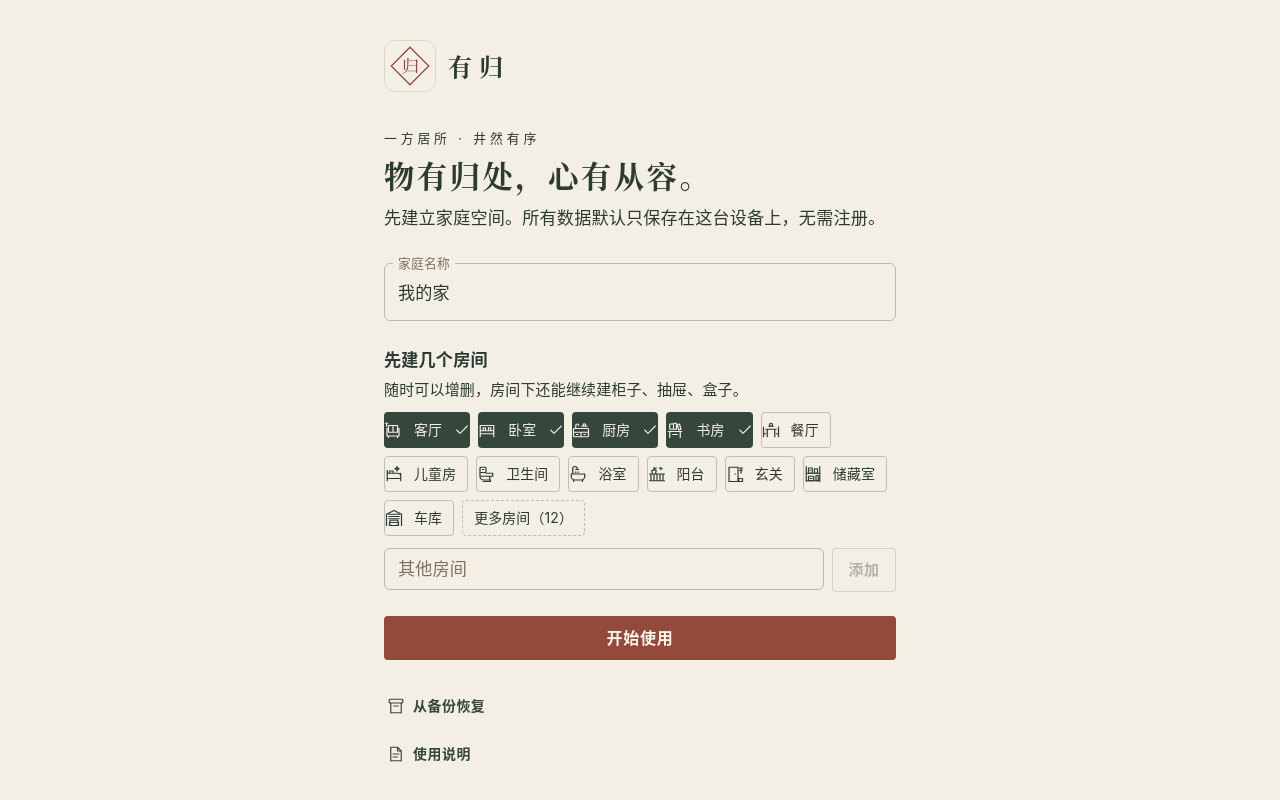
应用冒烟 › 首次使用 → 建家庭与房间 → 首页显示房间
Expected: the heading "先建几个房间" is shown, [384,348,488,370]
Step 1. Click the button "开始使用" → point(640, 638), box [384,616,896,660]
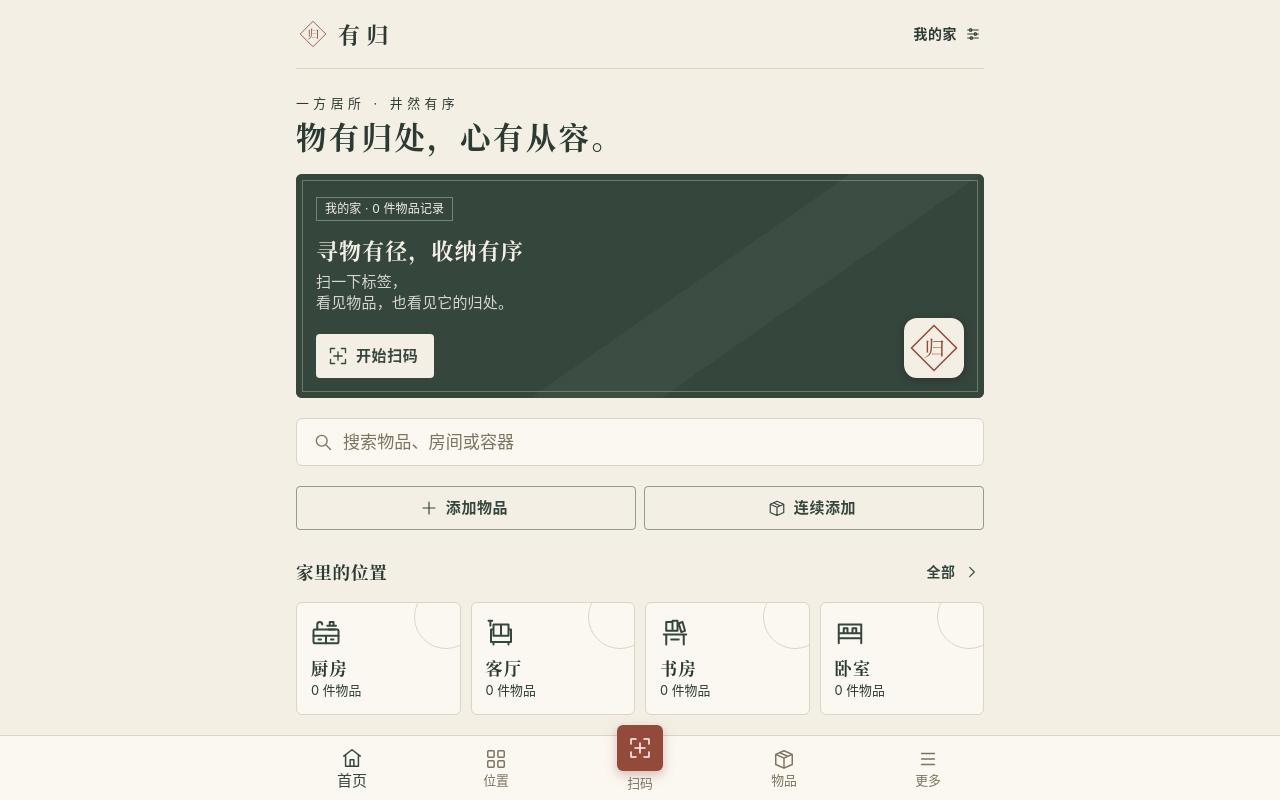
Expected: the heading "家里的位置" is shown, [296,561,388,583]
Expected: the text "书房" is shown, [660,655,697,680]
Expected: the button "我的家" is shown, [909,12,984,56]
